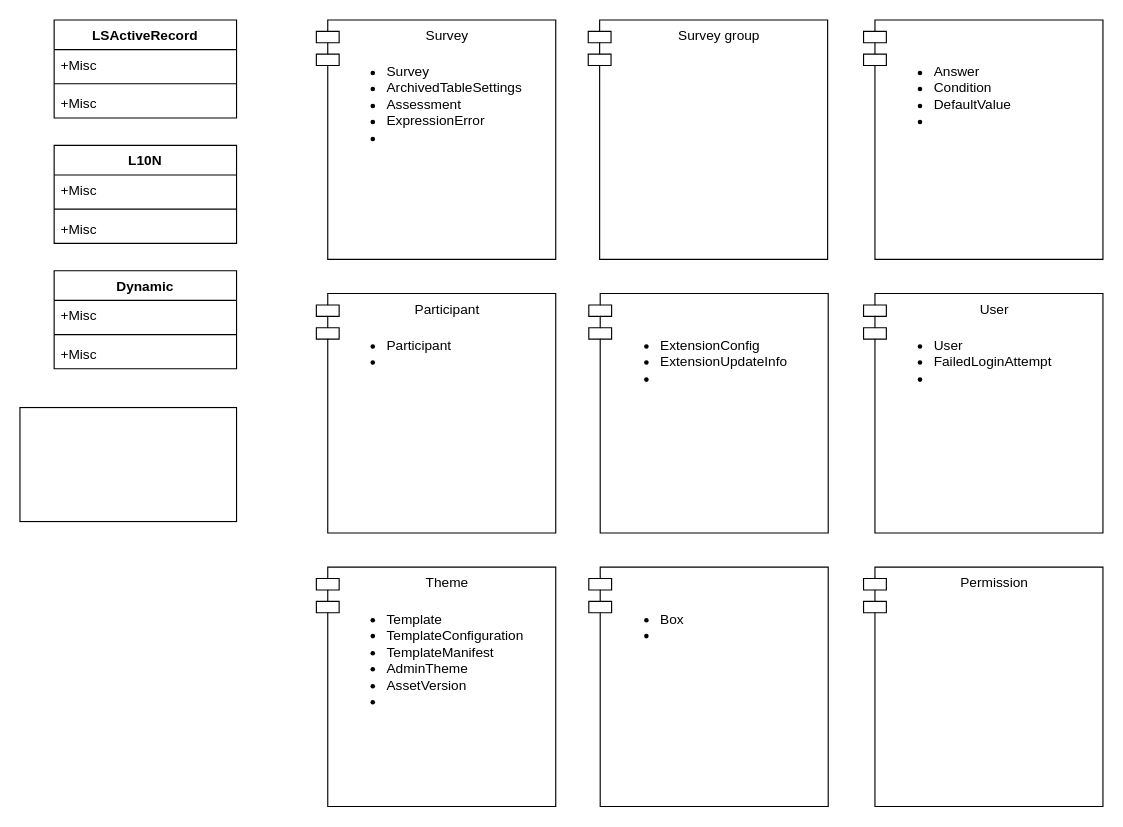
The diagram is 1123 pixels wide and 827 high, and some of its shapes have lost their labels. The shapes that lost their labels are listed below. From the top down, each one's box as (x1, y1, x2, y2) in pixels, then its label:
(862, 19, 1103, 259): Question
(588, 292, 828, 533): Plugin
(19, 406, 237, 522): <<Interface>> PermissionInterface + Misc + Misc
(588, 566, 828, 807): Customization
